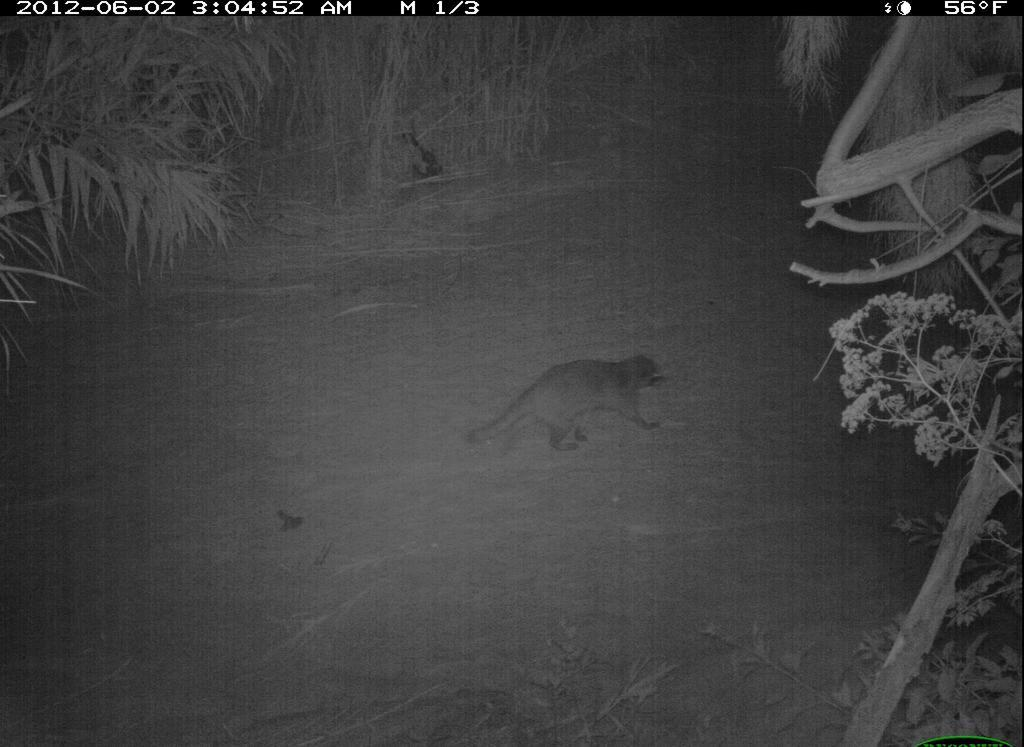raccoon: (440, 327, 678, 489)
